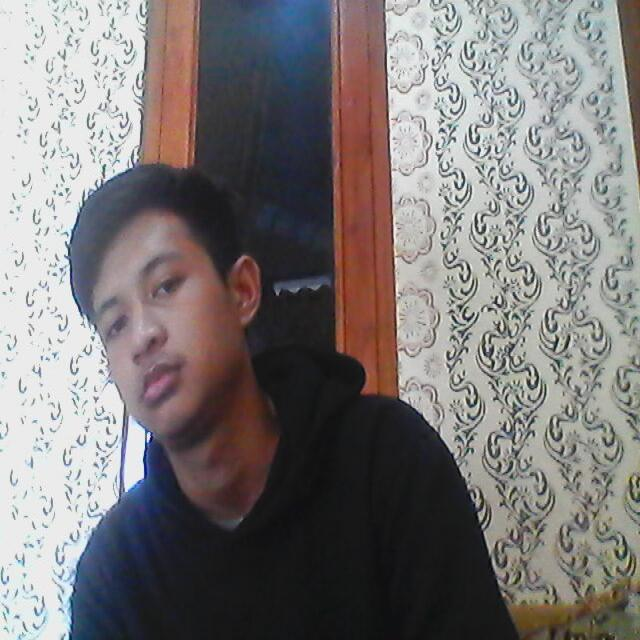eye: (149, 276, 184, 298), (104, 313, 132, 340)
gaze: (163, 280, 176, 293), (114, 320, 124, 332)
